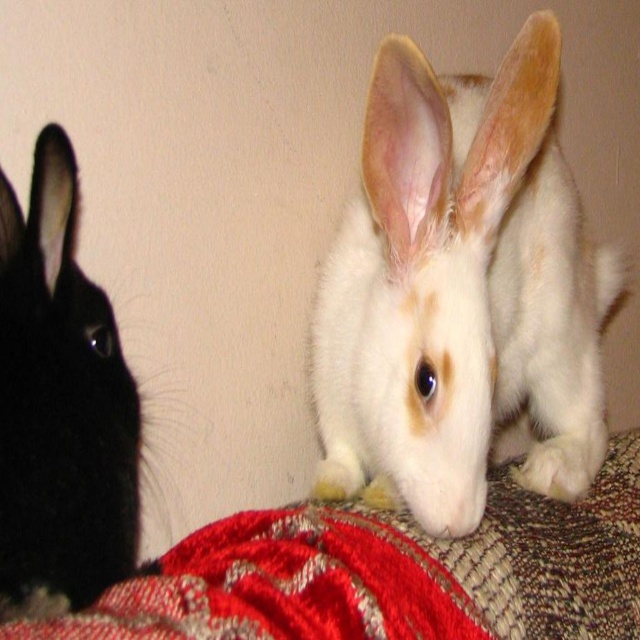Rabbit: (305, 7, 640, 542), (0, 114, 203, 630)
